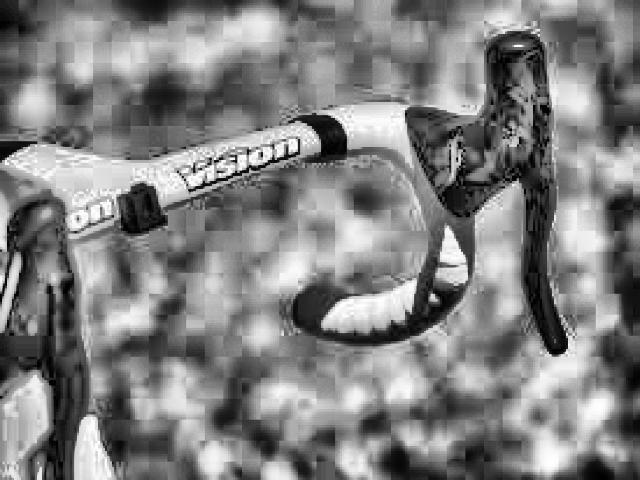sti_shifter: (456, 30, 570, 356)
